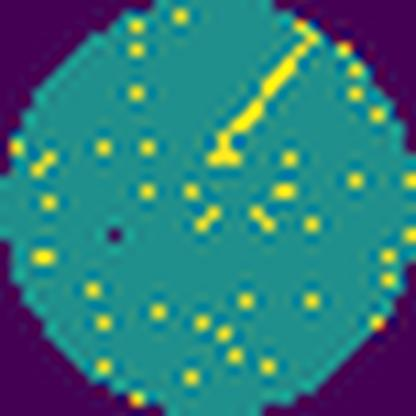Scratch: (199, 31, 315, 170)
